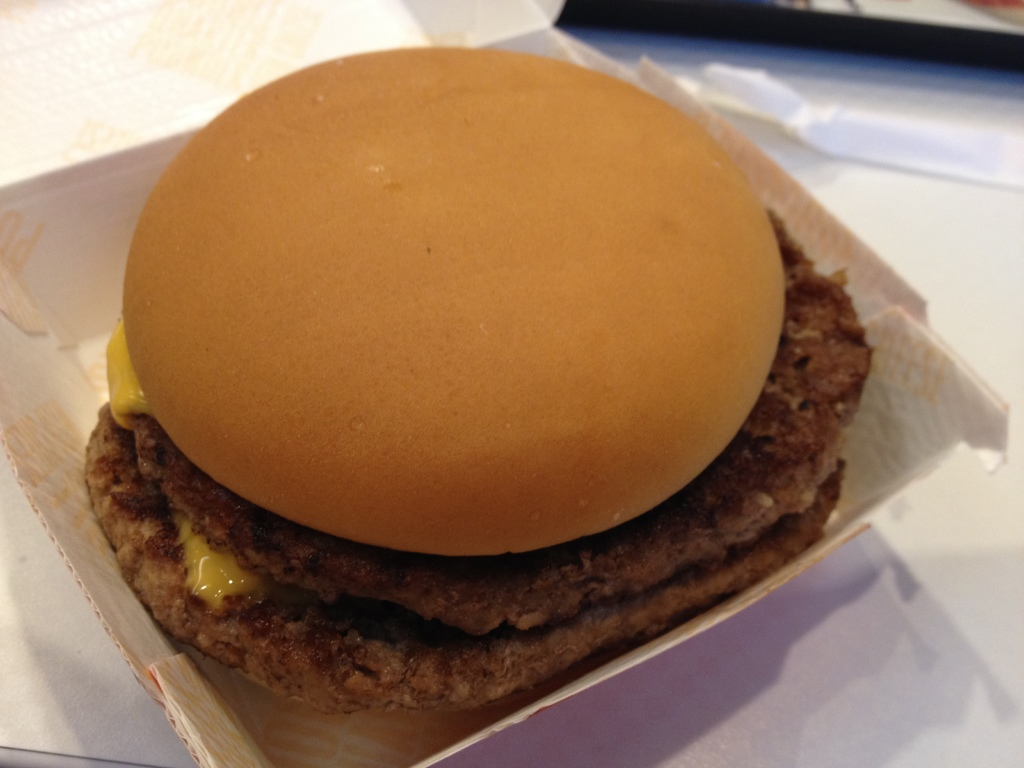Hamburger: (83, 44, 873, 716)
